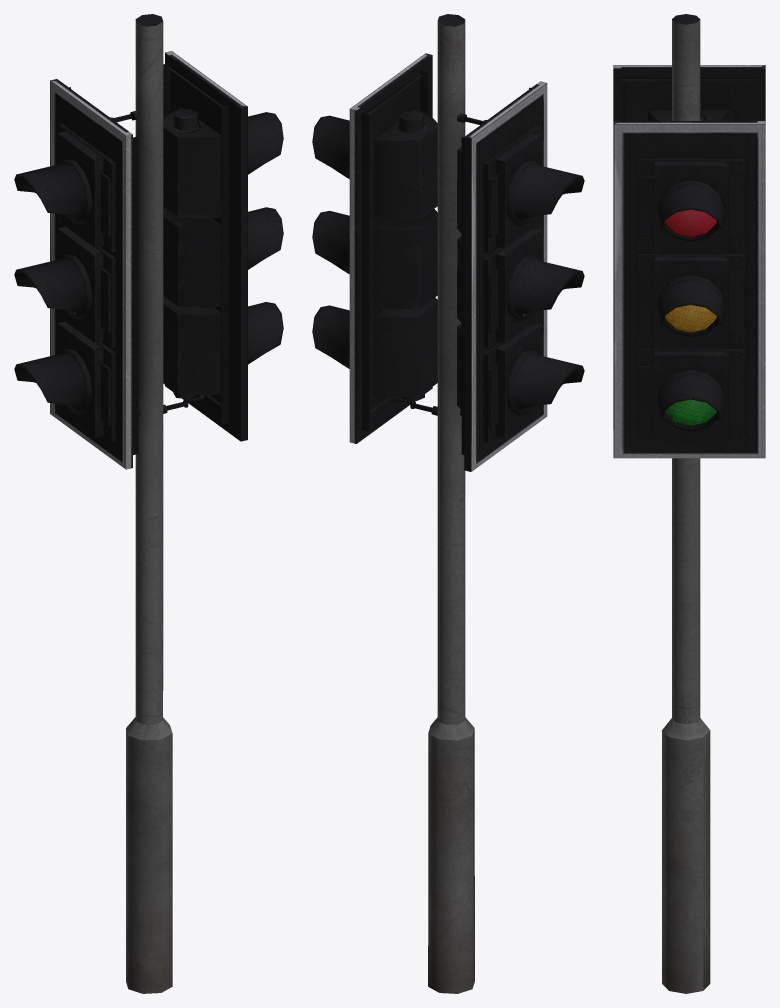
The model's file is trafic.dae.
The picture shows the model from 3 angles, left to right: view 1: azimuth 30°, elevation 25°; view 2: azimuth 150°, elevation 25°; view 3: azimuth 270°, elevation 25°; orthographic projection.
Parts seen in each view (by area): view 1: Object19; view 2: Object19; view 3: Object19.
Part boxes in pixels (x1,y1,x2,y2): Object19: (14,14,283,993); Object19: (312,14,584,993); Object19: (613,14,765,993).
Size of the model in its own units: 83.04 by 301 by 43.05.
